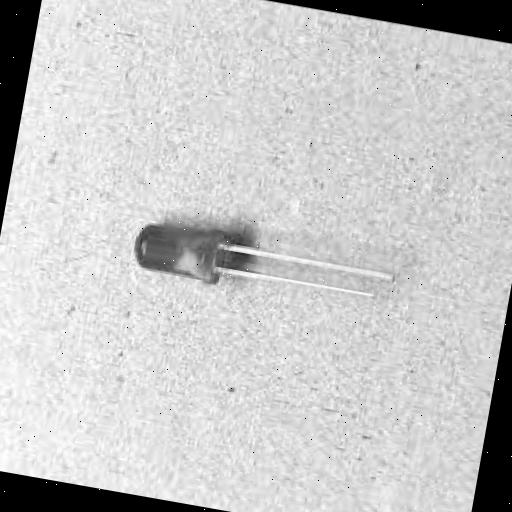LED: (94, 187, 413, 355)
